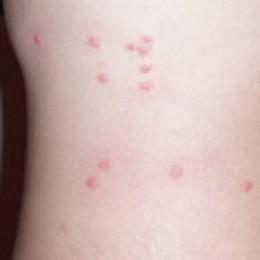Fleas: (126, 37, 154, 60), (85, 35, 110, 54), (165, 162, 189, 179), (95, 68, 113, 90), (137, 78, 154, 92), (97, 157, 112, 170), (139, 62, 153, 72), (33, 32, 42, 46), (86, 177, 97, 187), (242, 181, 253, 191)
